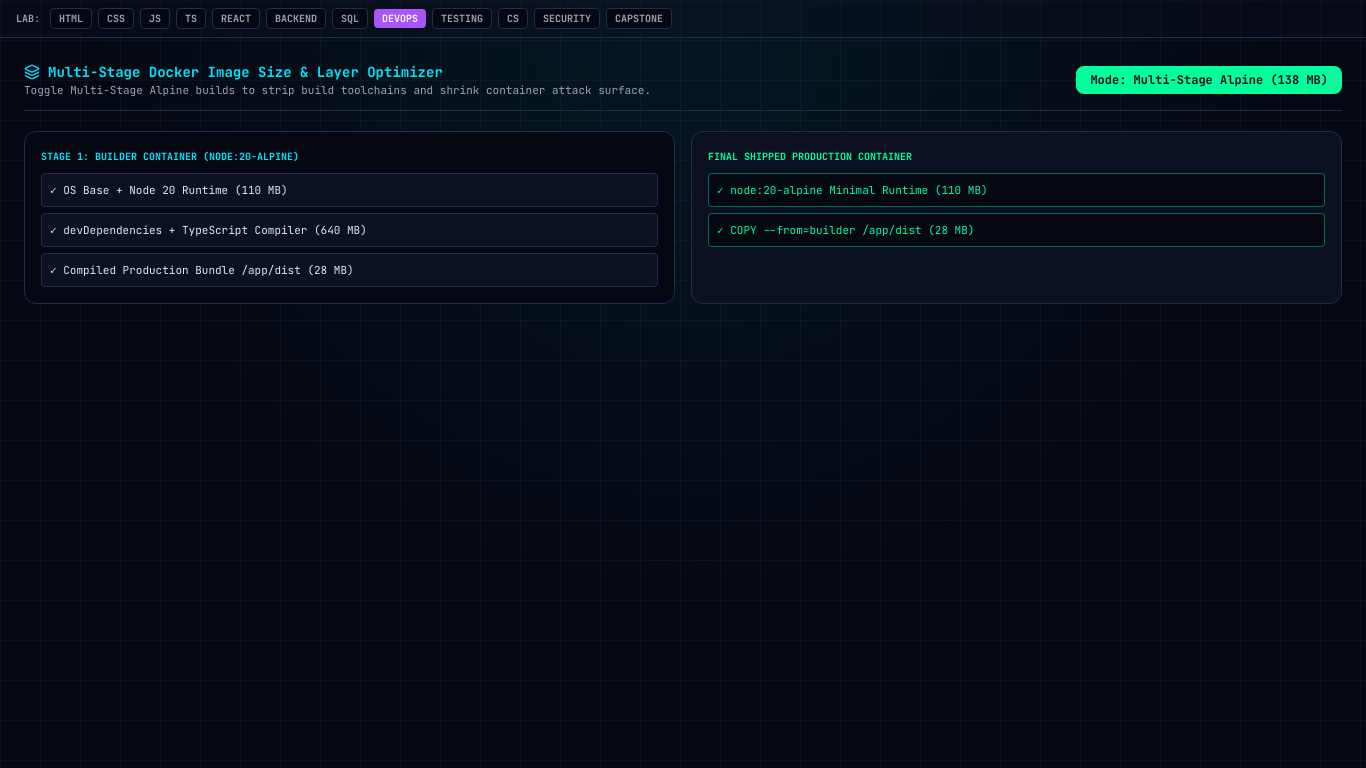
Scenario: RealmConceptVisualizer Component › switches to DevOps lab and toggles multi-stage docker image optimization
Expected: the heading "Multi-Stage Docker Image Size & Layer Optimizer" is shown, [24, 63, 443, 81]
Click the button "Mode: Multi-Stage Alpine (138 MB)". click: click(1209, 80)
box: [1076, 66, 1342, 94]
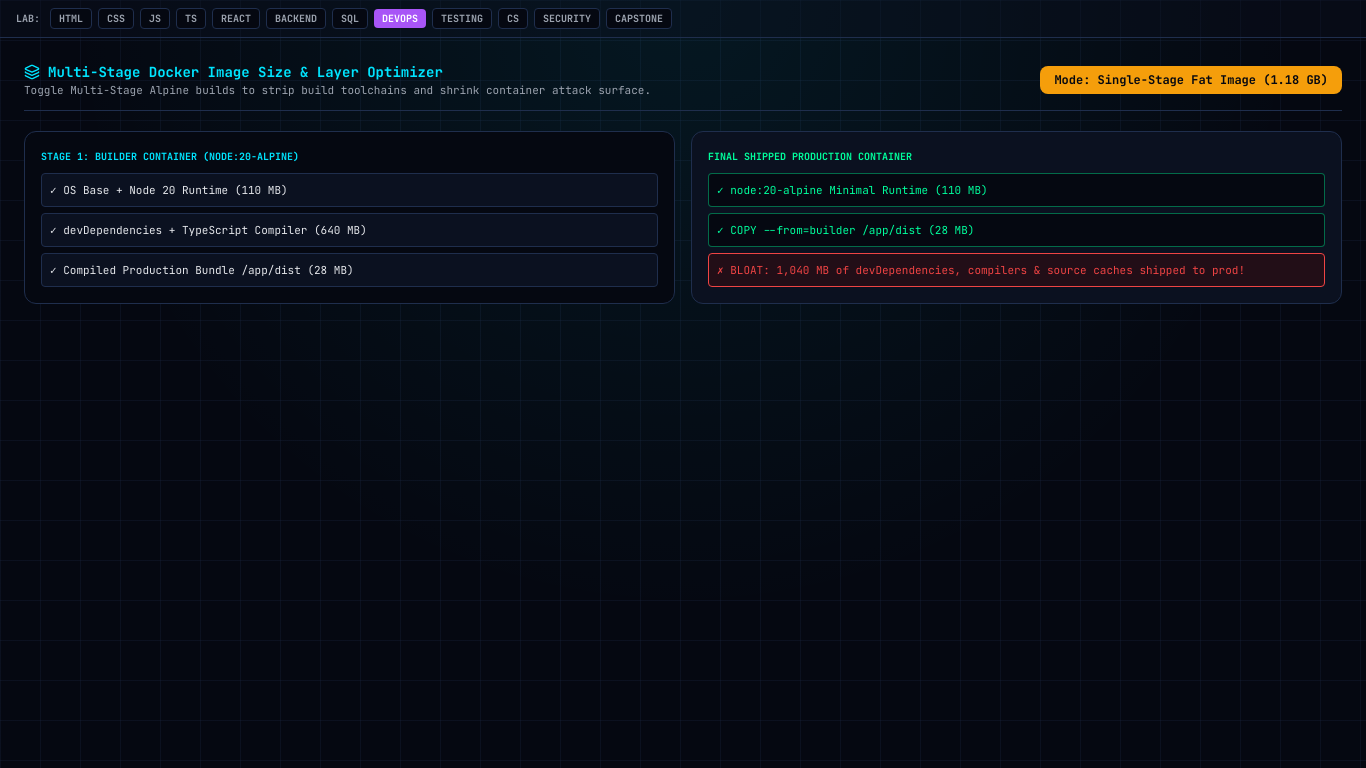
Expected: the button "Mode: Single-Stage Fat Image (1.18 GB)" is shown, [1040, 66, 1342, 94]
Expected: the text "BLOAT: 1,040 MB" is shown, [717, 263, 1245, 277]
